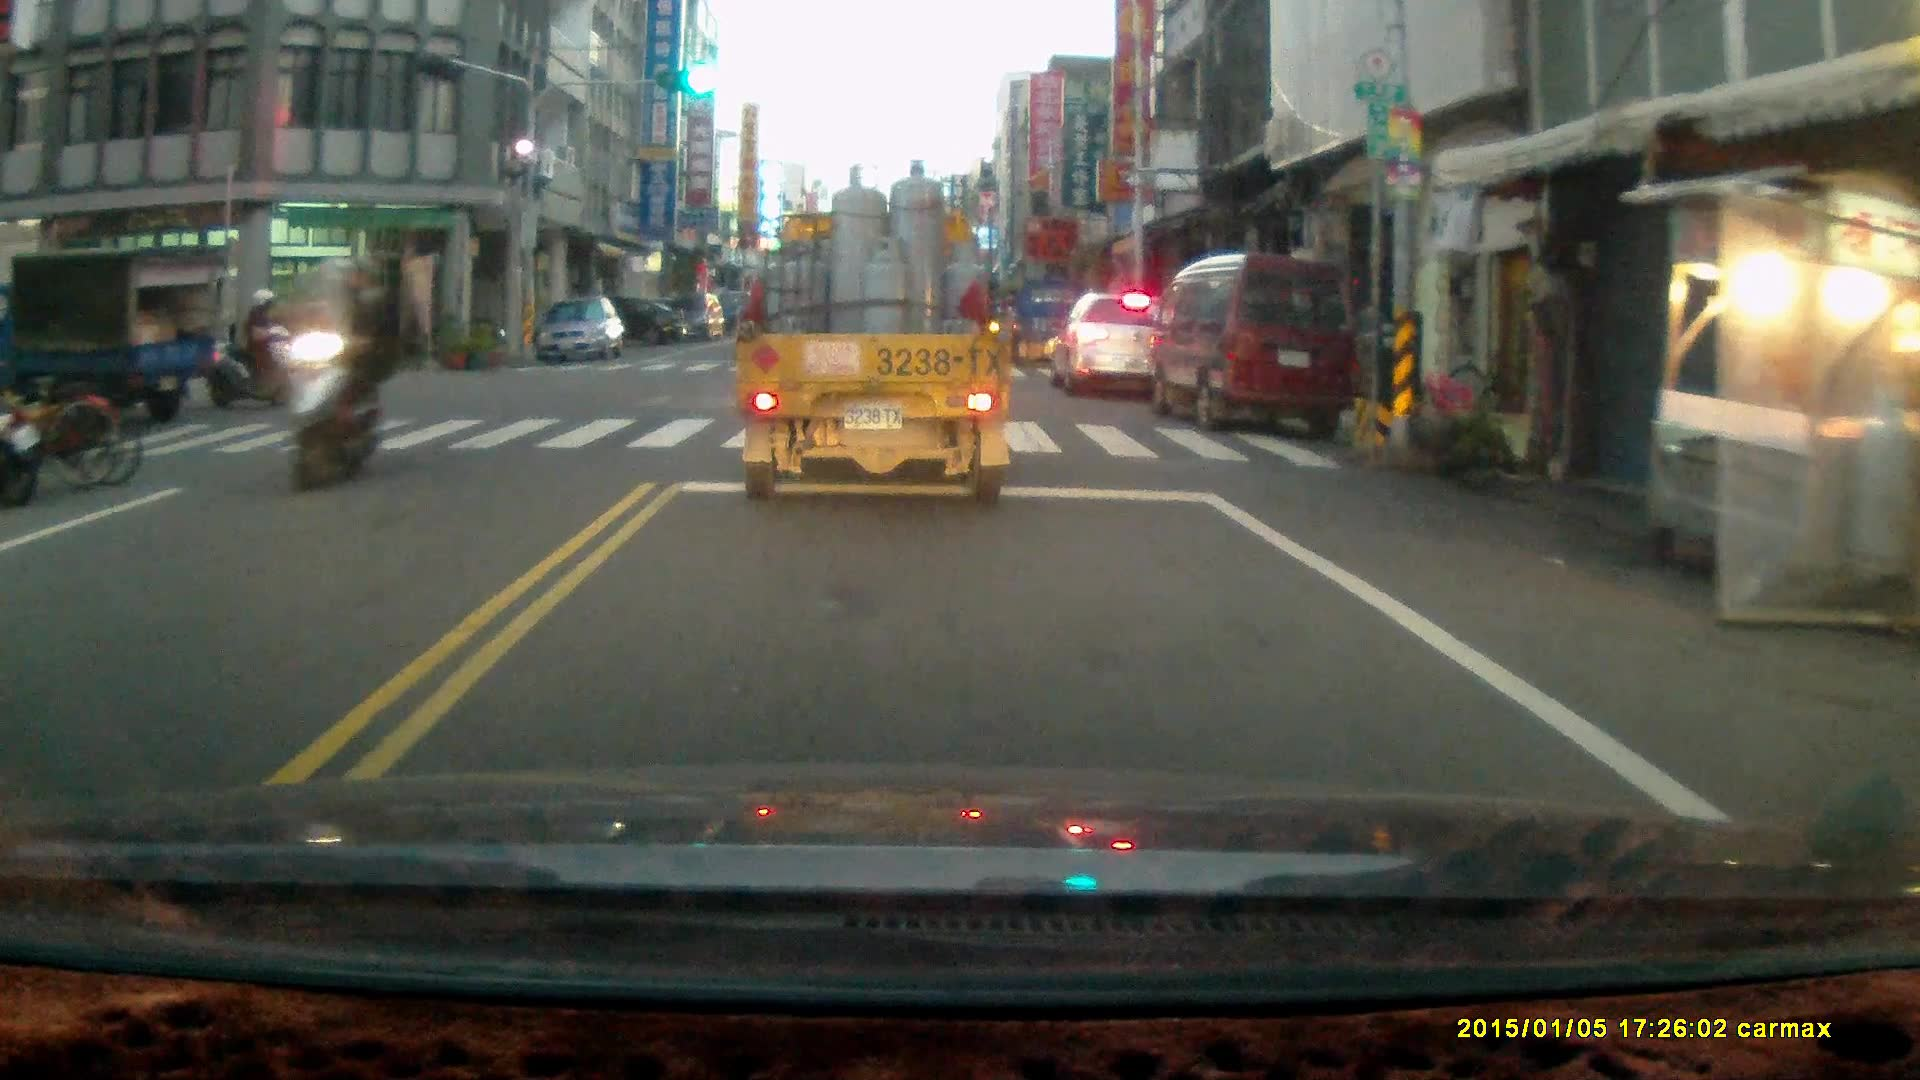rider: (281, 250, 403, 487), (204, 285, 308, 409)
vehicle: (738, 167, 1014, 507), (1148, 254, 1365, 437), (1, 247, 211, 427), (1045, 290, 1186, 405), (562, 299, 687, 358), (537, 296, 630, 364), (646, 291, 726, 340)
